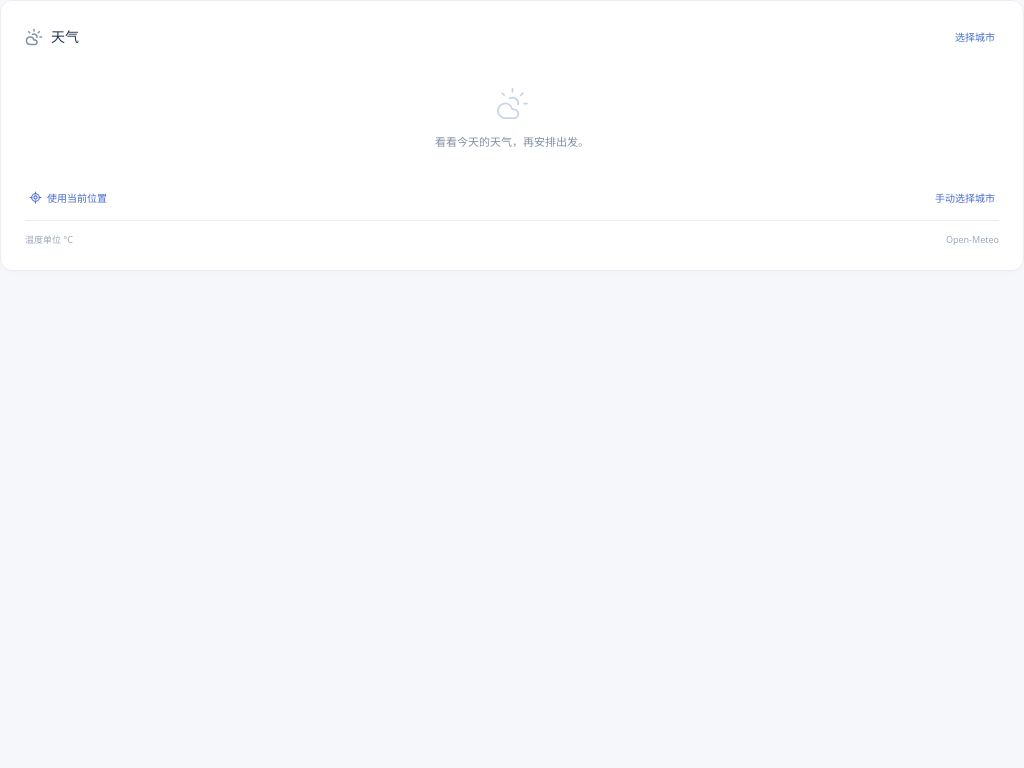
Test: 未设置位置时不自动定位，定位失败后可搜索并选择城市、展示三天预报
Click the button "使用当前位置". click: click(68, 198)
box: 25,185 -> 111,211
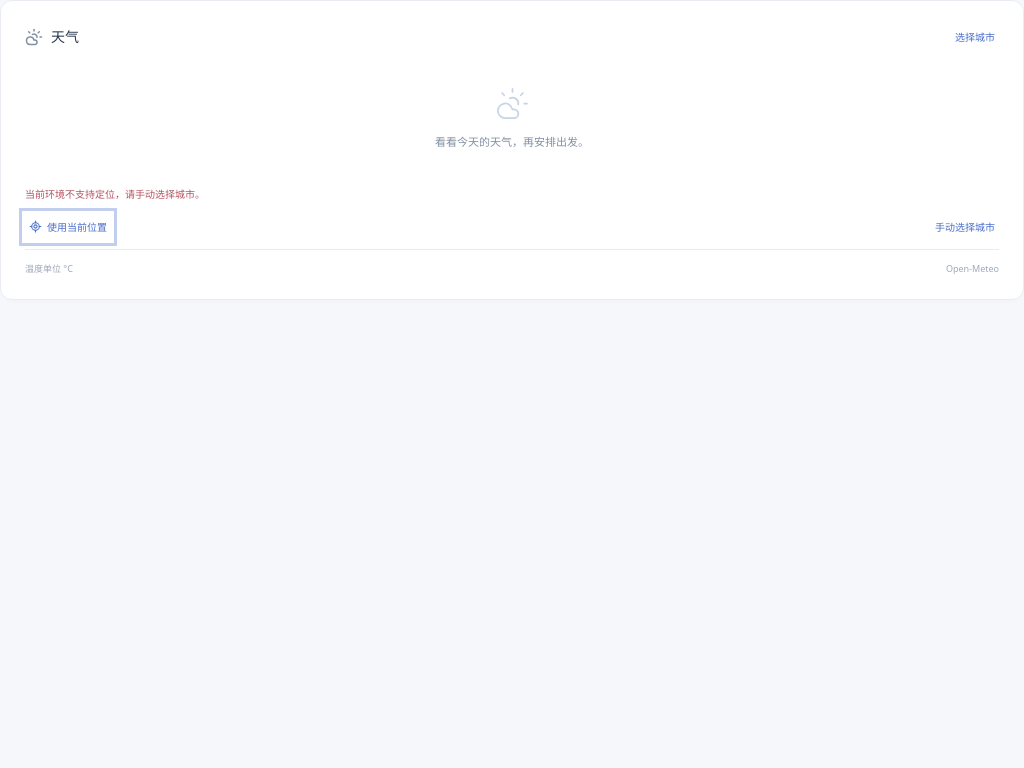
Result: the text "当前环境不支持定位，请手动选择城市。" is shown at 25,187 -> 205,201
Click the button "手动选择城市". click: click(965, 227)
box: 931,214 -> 999,240
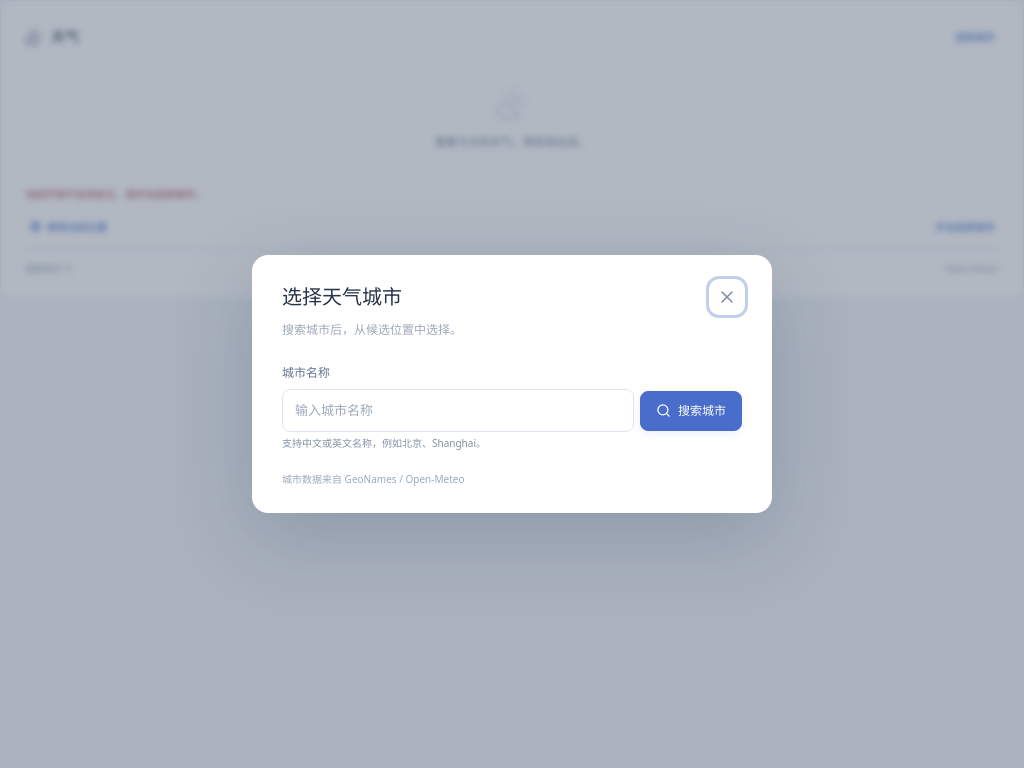
Type "北京" into the field labelled "城市名称". click: (458, 411)
box: 282,389 -> 634,432
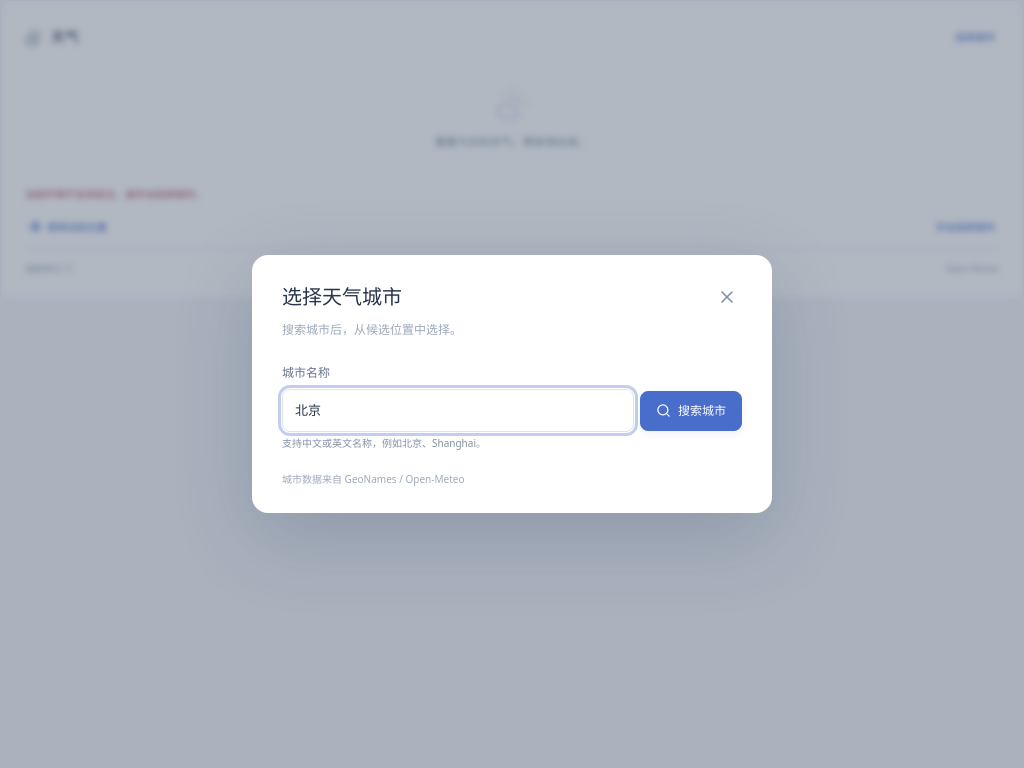
Click the button "搜索城市". click: click(691, 411)
box: 640,391 -> 742,431
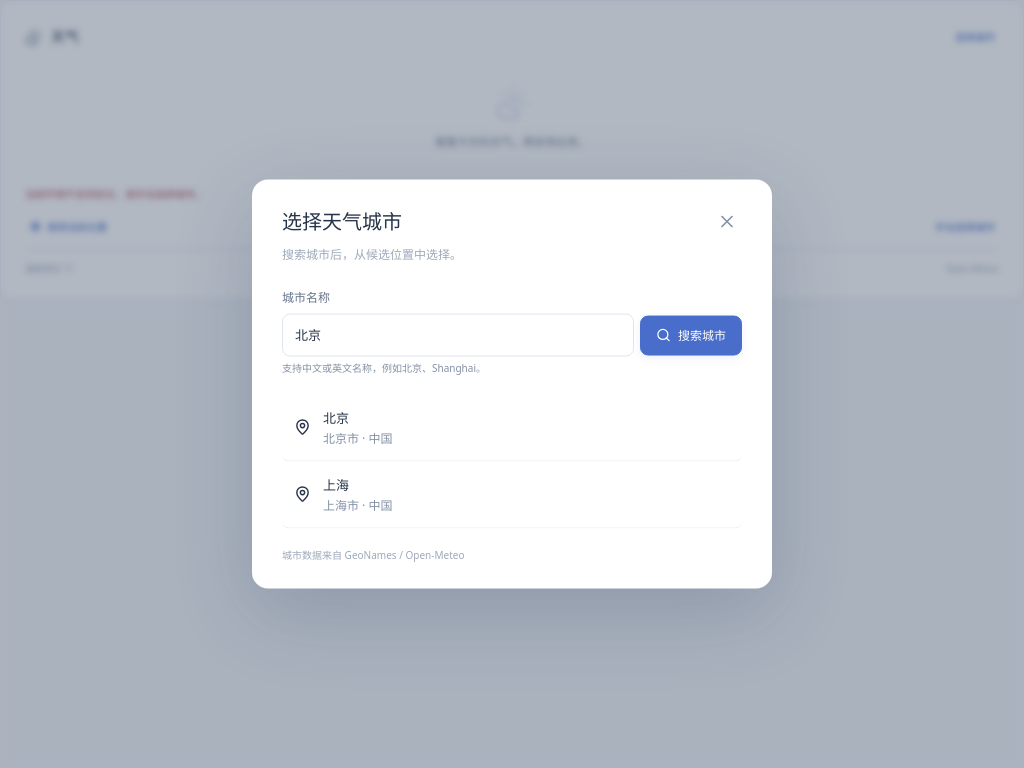
Result: the text "北京市 · 中国" is shown at 323,428 -> 392,448
Click the button "上海 上海市 · 中国". click: click(358, 505)
box: 282,462 -> 742,528
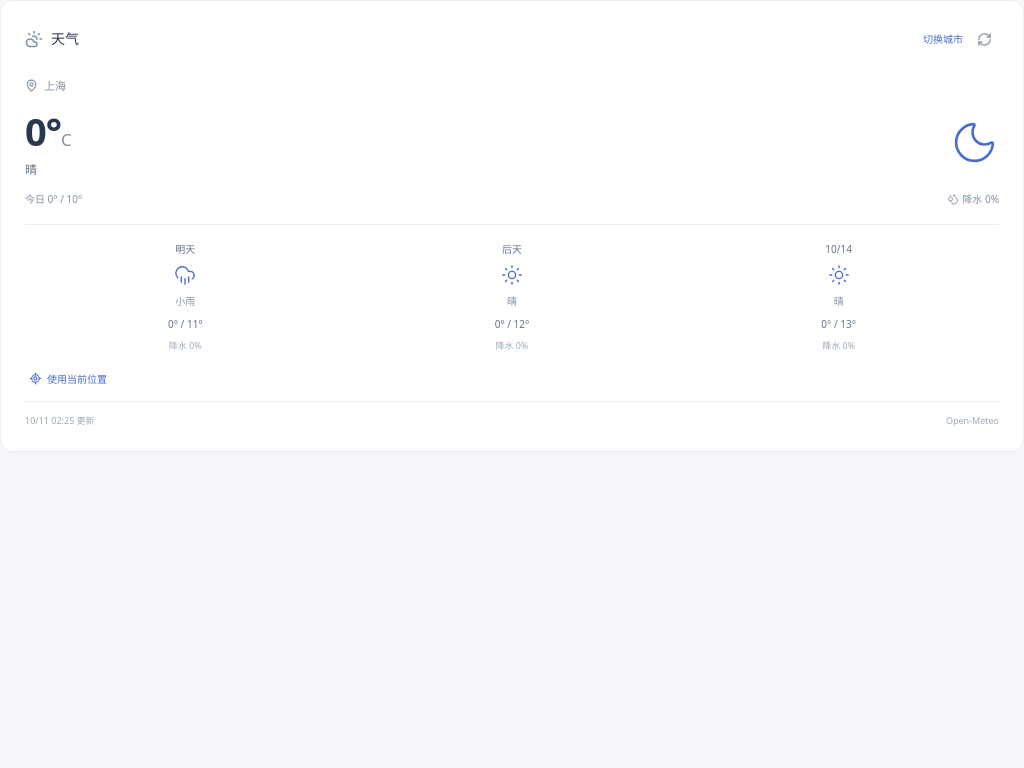
Result: the text "上海" is shown at 44,77 -> 66,95
Result: the dialog is gone
Result: the text "今日 0° / 10°" is shown at 25,191 -> 82,207
